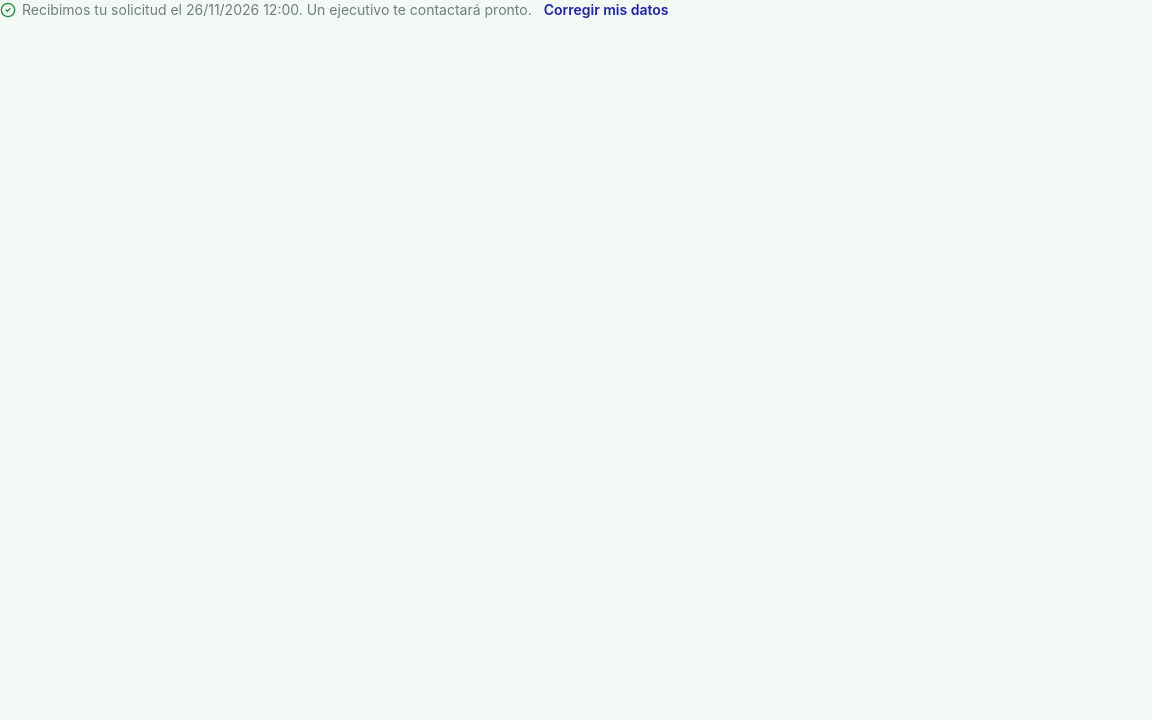
Test: SolicitudActivacion › con una solicitud abierta avisa que ya se recibió y deja corregirla
The width and height of the screenshot is (1152, 720).
Expected: the text "Recibimos tu solicitud" is shown, [22, 1, 186, 18]
Step 1. Click the button "Corregir mis datos" → click(606, 10), box [544, 0, 669, 20]
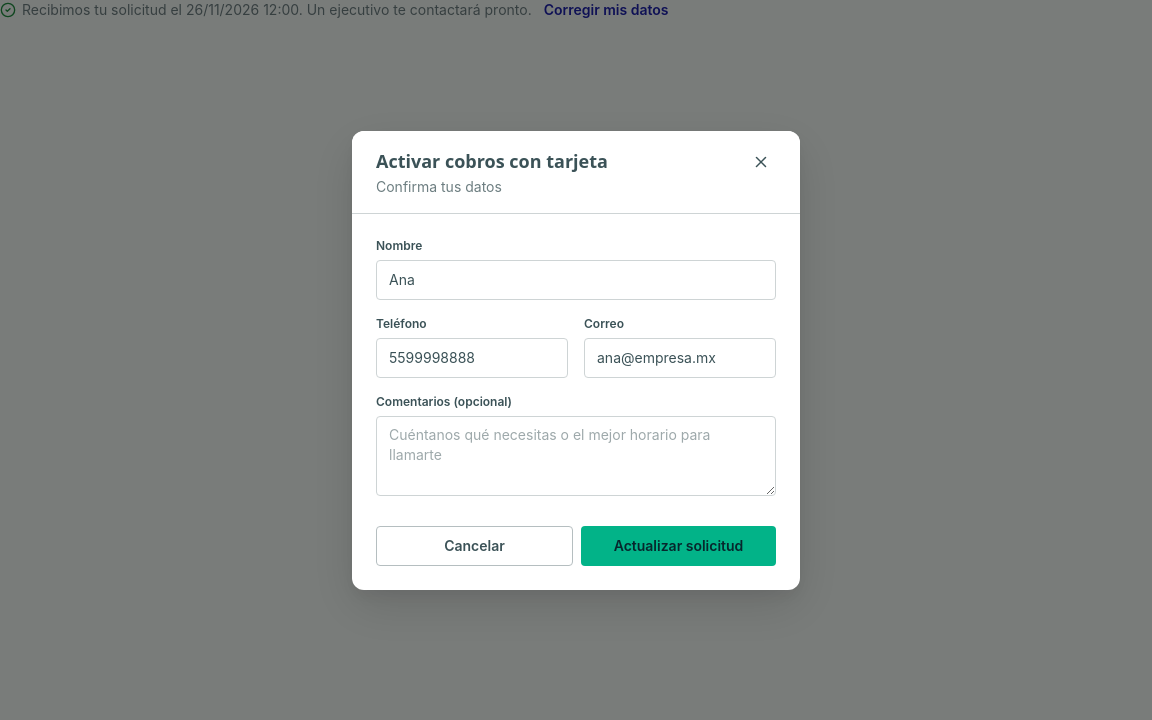
Expected: the field labelled "Nombre" holds "Ana", [376, 260, 776, 300]
Expected: the button "Actualizar solicitud" is shown, [581, 526, 776, 566]
